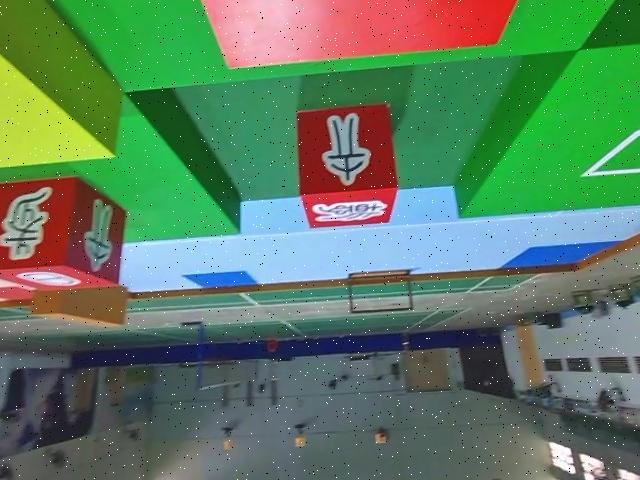R2 Fake: (0, 179, 124, 291), (300, 100, 398, 230)
